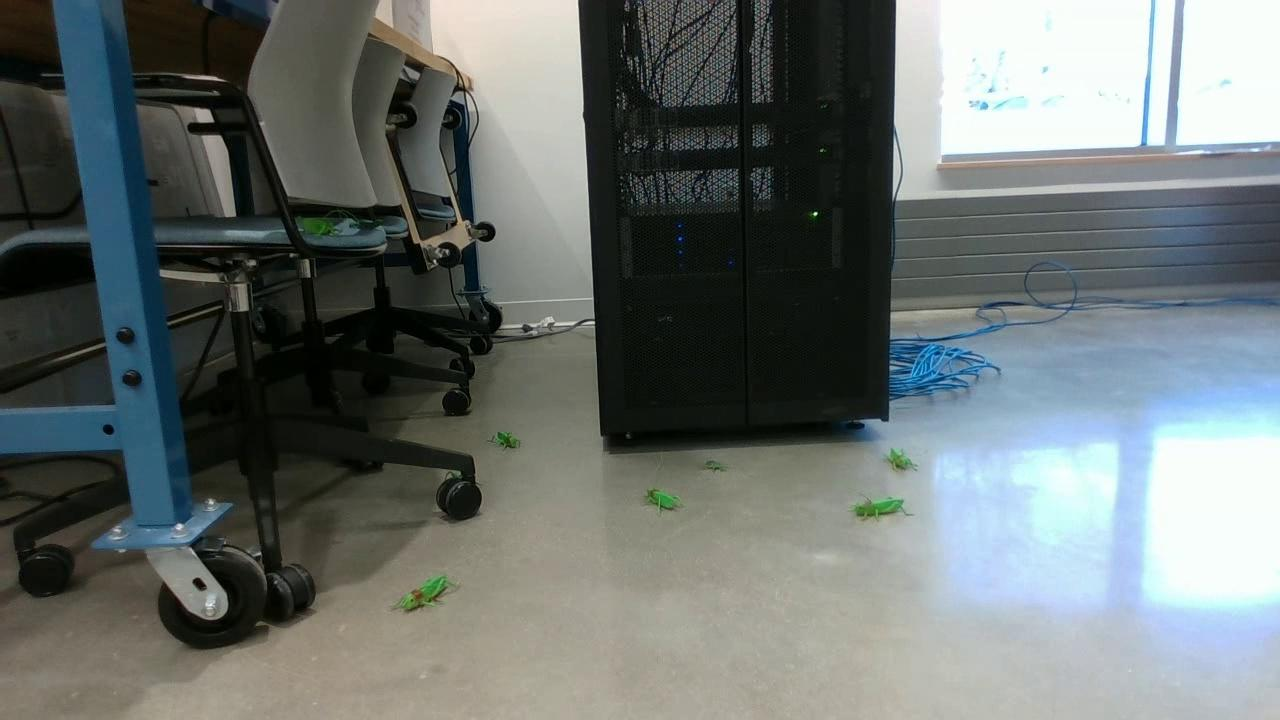grasshopper: (388, 577, 459, 612), (850, 495, 915, 520), (644, 491, 686, 515), (881, 448, 916, 473), (290, 216, 344, 232), (487, 430, 525, 452)
